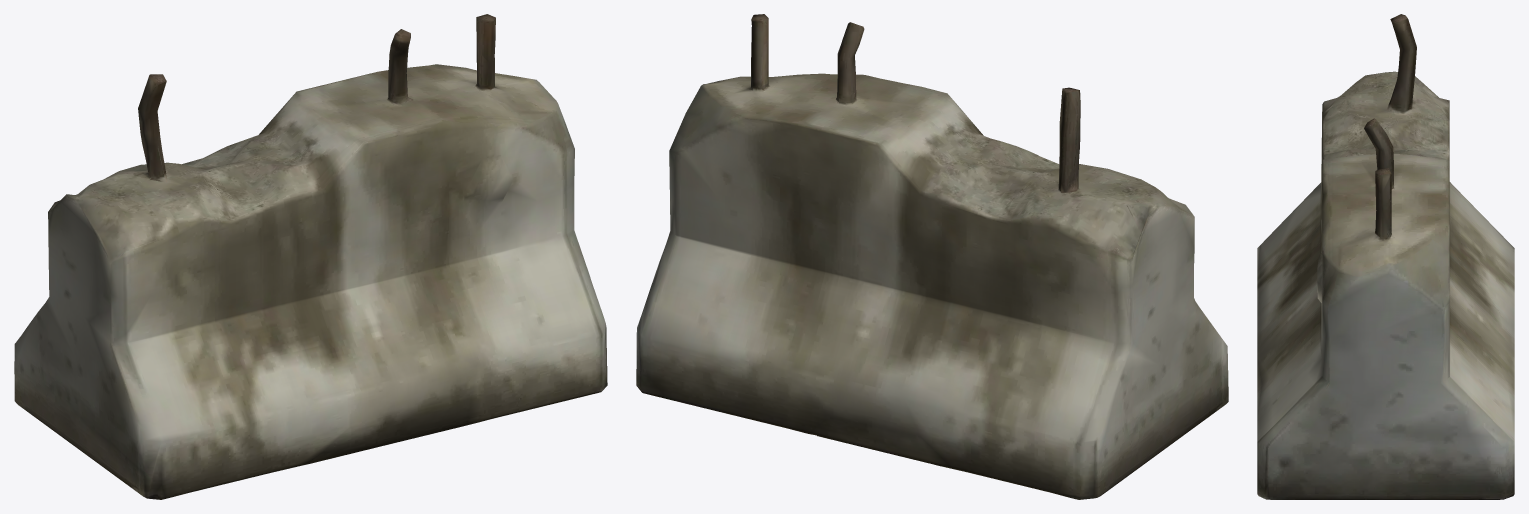
Rendered from concrete-block-web.glb.
3 renders of one model, left to right at view 1: azimuth 30°, elevation 25°; view 2: azimuth 150°, elevation 25°; view 3: azimuth 270°, elevation 25°, orthographic. The views are drawn at different scales.
Visible parts, largest first — view 1: Mesh_0; view 2: Mesh_0; view 3: Mesh_0.
Part boxes in pixels (bbox=[...]): Mesh_0: bbox=[14, 14, 607, 499]; Mesh_0: bbox=[636, 14, 1228, 499]; Mesh_0: bbox=[1257, 14, 1514, 499].
Size of the model in its own units: 1.91 by 1.38 by 1.01.
1 material, 1 textured.
